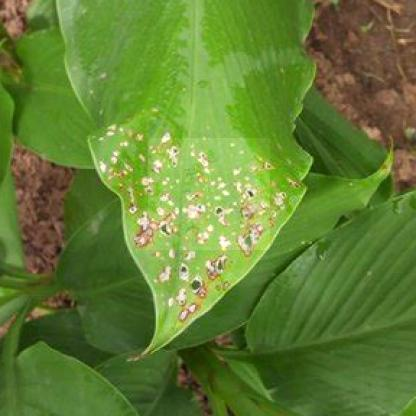black-spot: (148, 138, 270, 250)
